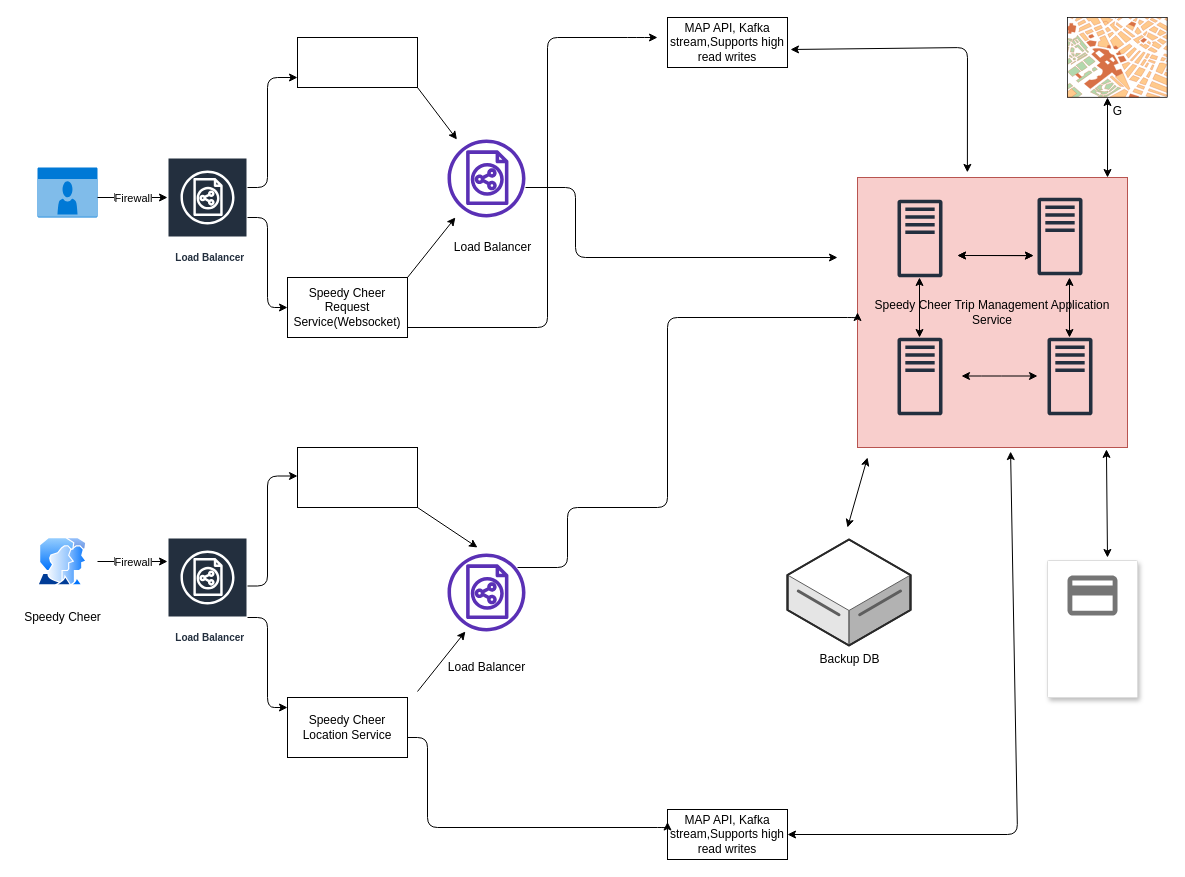
Some shapes in this 1185 by 877 pixel diagram are drawn without their labels. The shapes that lost their labels are listed below. From the top down, each one's centre as x and y in pixels, then its label:
At pixel 357 62: "User Service(MySQL,Redis)".
At pixel 67 192: "User".
At pixel 357 477: "Speedy Cheer Service(MySQL, Redis)".
At pixel 1093 630: "Payment".
